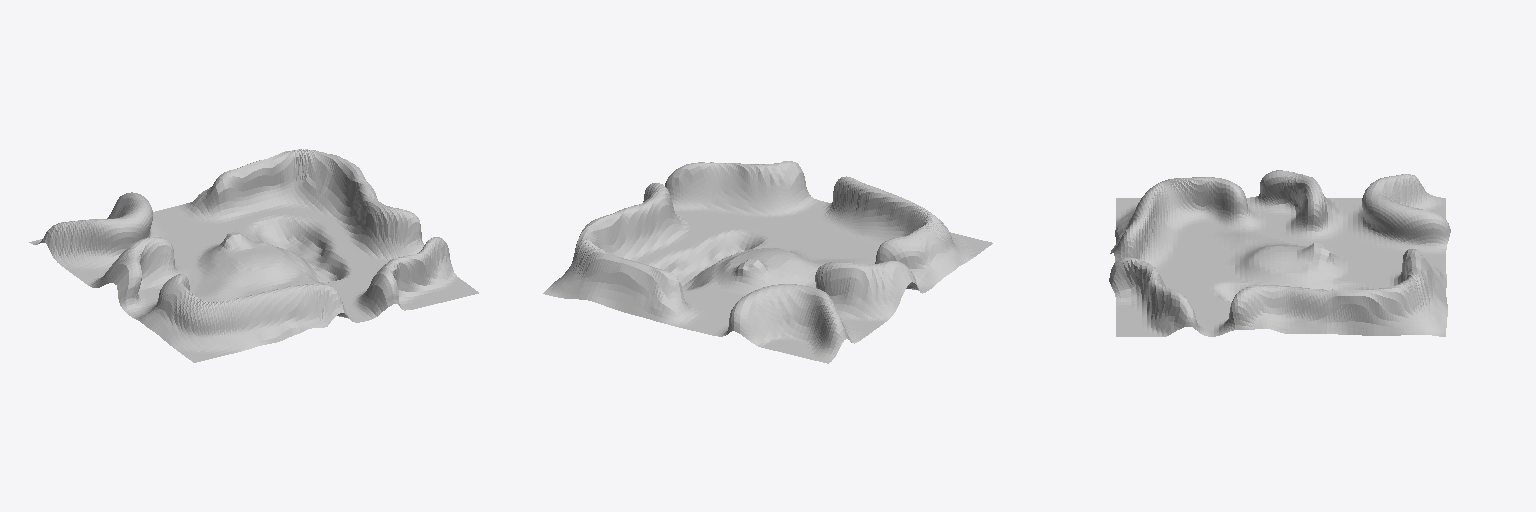
Rendered from terrain.obj.
The picture shows the model from 3 angles: view 1: azimuth 30°, elevation 25°; view 2: azimuth 150°, elevation 25°; view 3: azimuth 270°, elevation 25°; orthographic projection.
Parts seen in each view (by area): view 1: Plane; view 2: Plane; view 3: Plane.
Boxes of the visible parts, x1,y1,x2,y2 form: Plane: [29, 149, 478, 362]; Plane: [543, 161, 992, 363]; Plane: [1109, 170, 1450, 336].
Bounding box in the file's own units: 411 × 83.71 × 414.